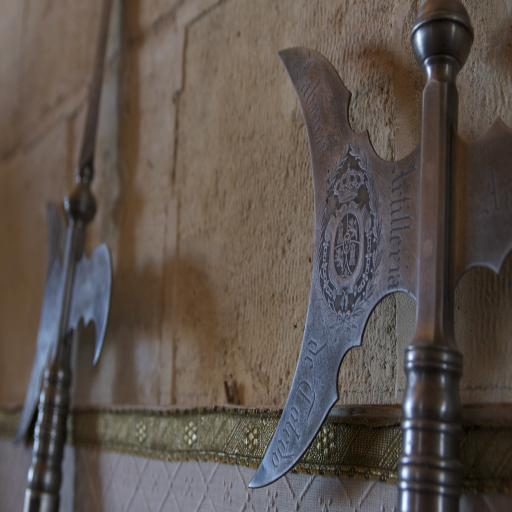Axe: (246, 0, 512, 512), (14, 0, 115, 512)
